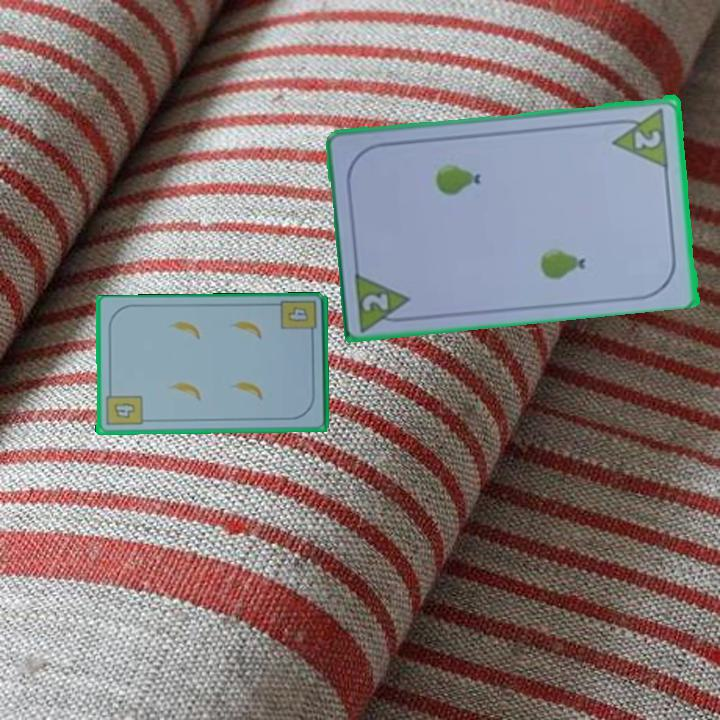2p: (351, 266, 417, 332), (631, 126, 664, 151)
4b: (278, 297, 320, 342), (102, 386, 144, 428)
